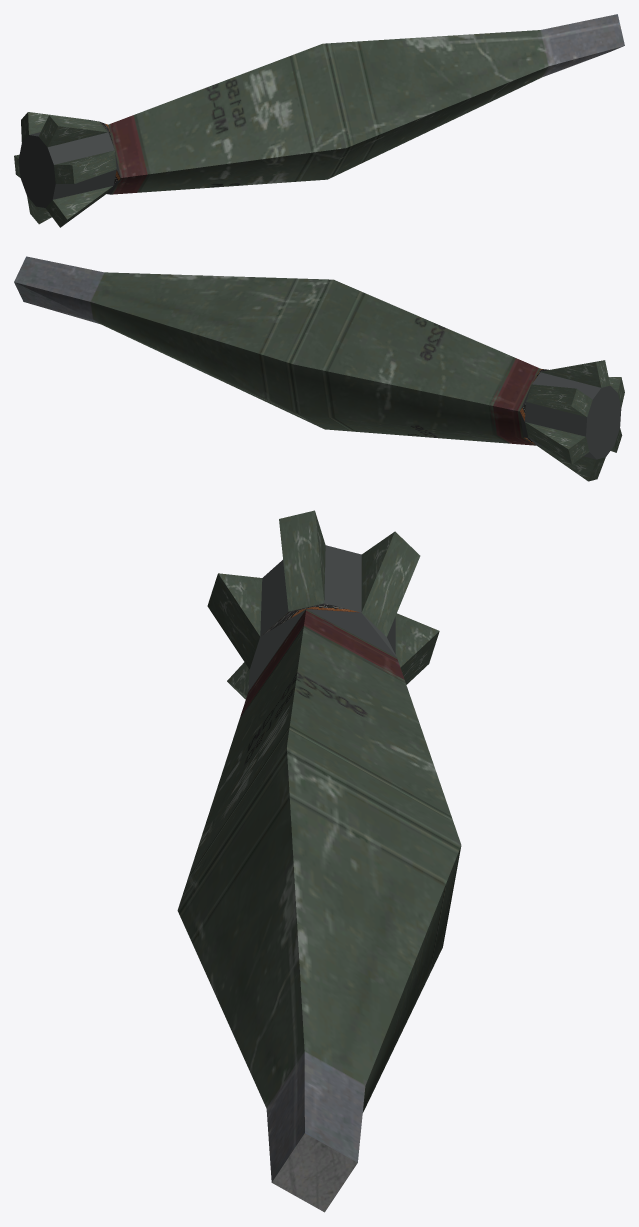
Rendered from rocket_model.glb.
The picture shows the model from 3 angles, top to bottom: view 1: azimuth 30°, elevation 25°; view 2: azimuth 150°, elevation 25°; view 3: azimuth 270°, elevation 25°; orthographic projection. The views are drawn at different scales.
Visible parts, largest first — view 1: 4d2d6410.obj; view 2: 4d2d6410.obj; view 3: 4d2d6410.obj.
Boxes of the visible parts, left/top/right/bottom form: 4d2d6410.obj: left=14, top=14, right=624, bottom=227; 4d2d6410.obj: left=14, top=256, right=624, bottom=481; 4d2d6410.obj: left=177, top=510, right=461, bottom=1212.
Size of the model in its own units: 0.9441 by 0.21 by 0.201.
Materials: 1 (1 with a texture image).
